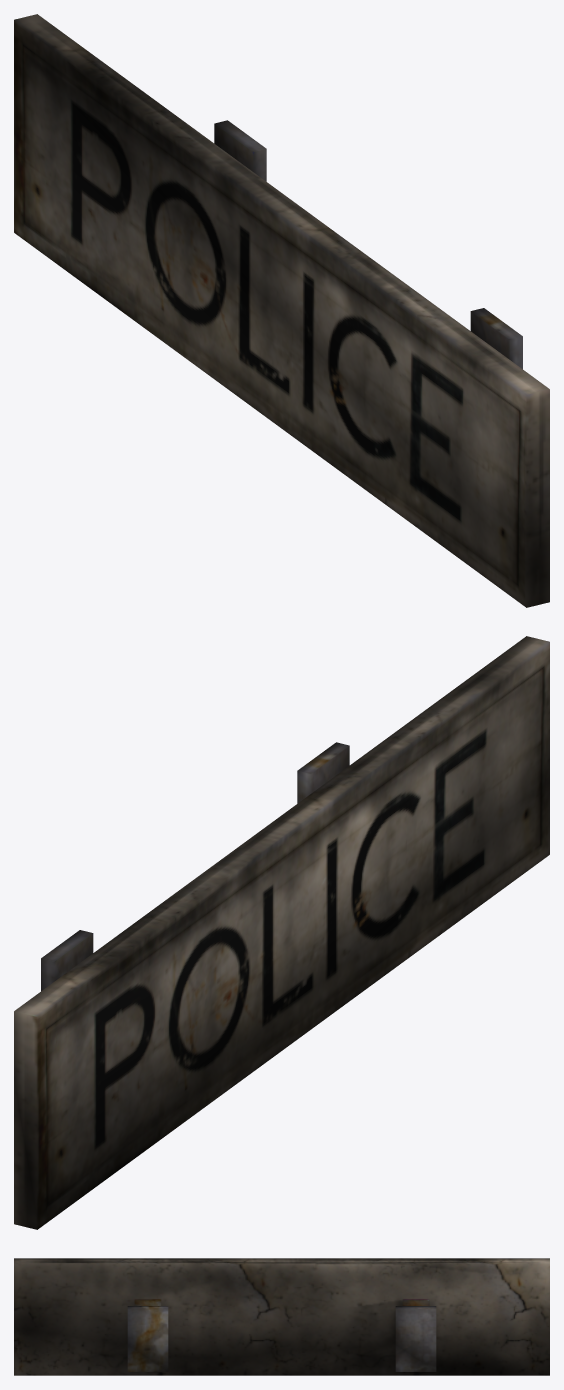
Rendered from Police Sign.fbx.
3 views of the same model, one above another, from view 1: azimuth 30°, elevation 25°; view 2: azimuth 150°, elevation 25°; view 3: azimuth 270°, elevation 25° (orthographic). The views are drawn at different scales.
Parts seen in each view (by area): view 1: Cube1; view 2: Cube1; view 3: Cube1.
Part boxes in pixels (x1,y1,x2,y2): Cube1: (14, 14, 549, 607); Cube1: (14, 636, 549, 1229); Cube1: (14, 1258, 549, 1375).
Bounding box in the file's own units: 0.2726 × 0.528 × 2.3.
